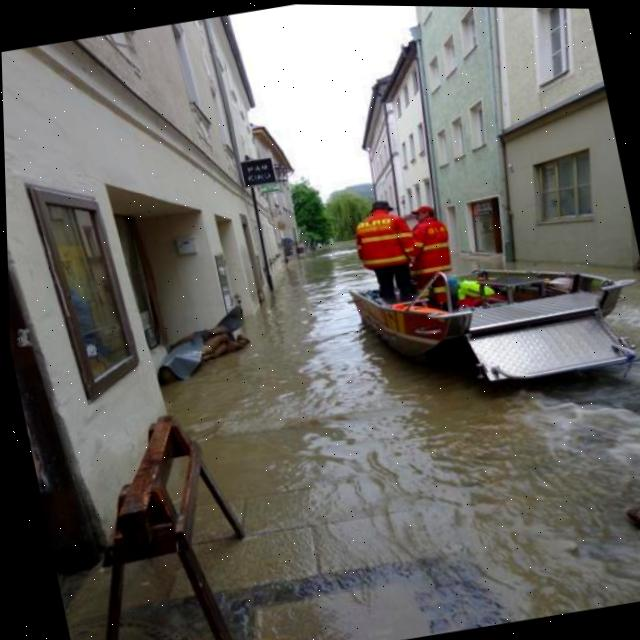rescuer: (337, 182, 431, 316), (400, 186, 466, 310)
